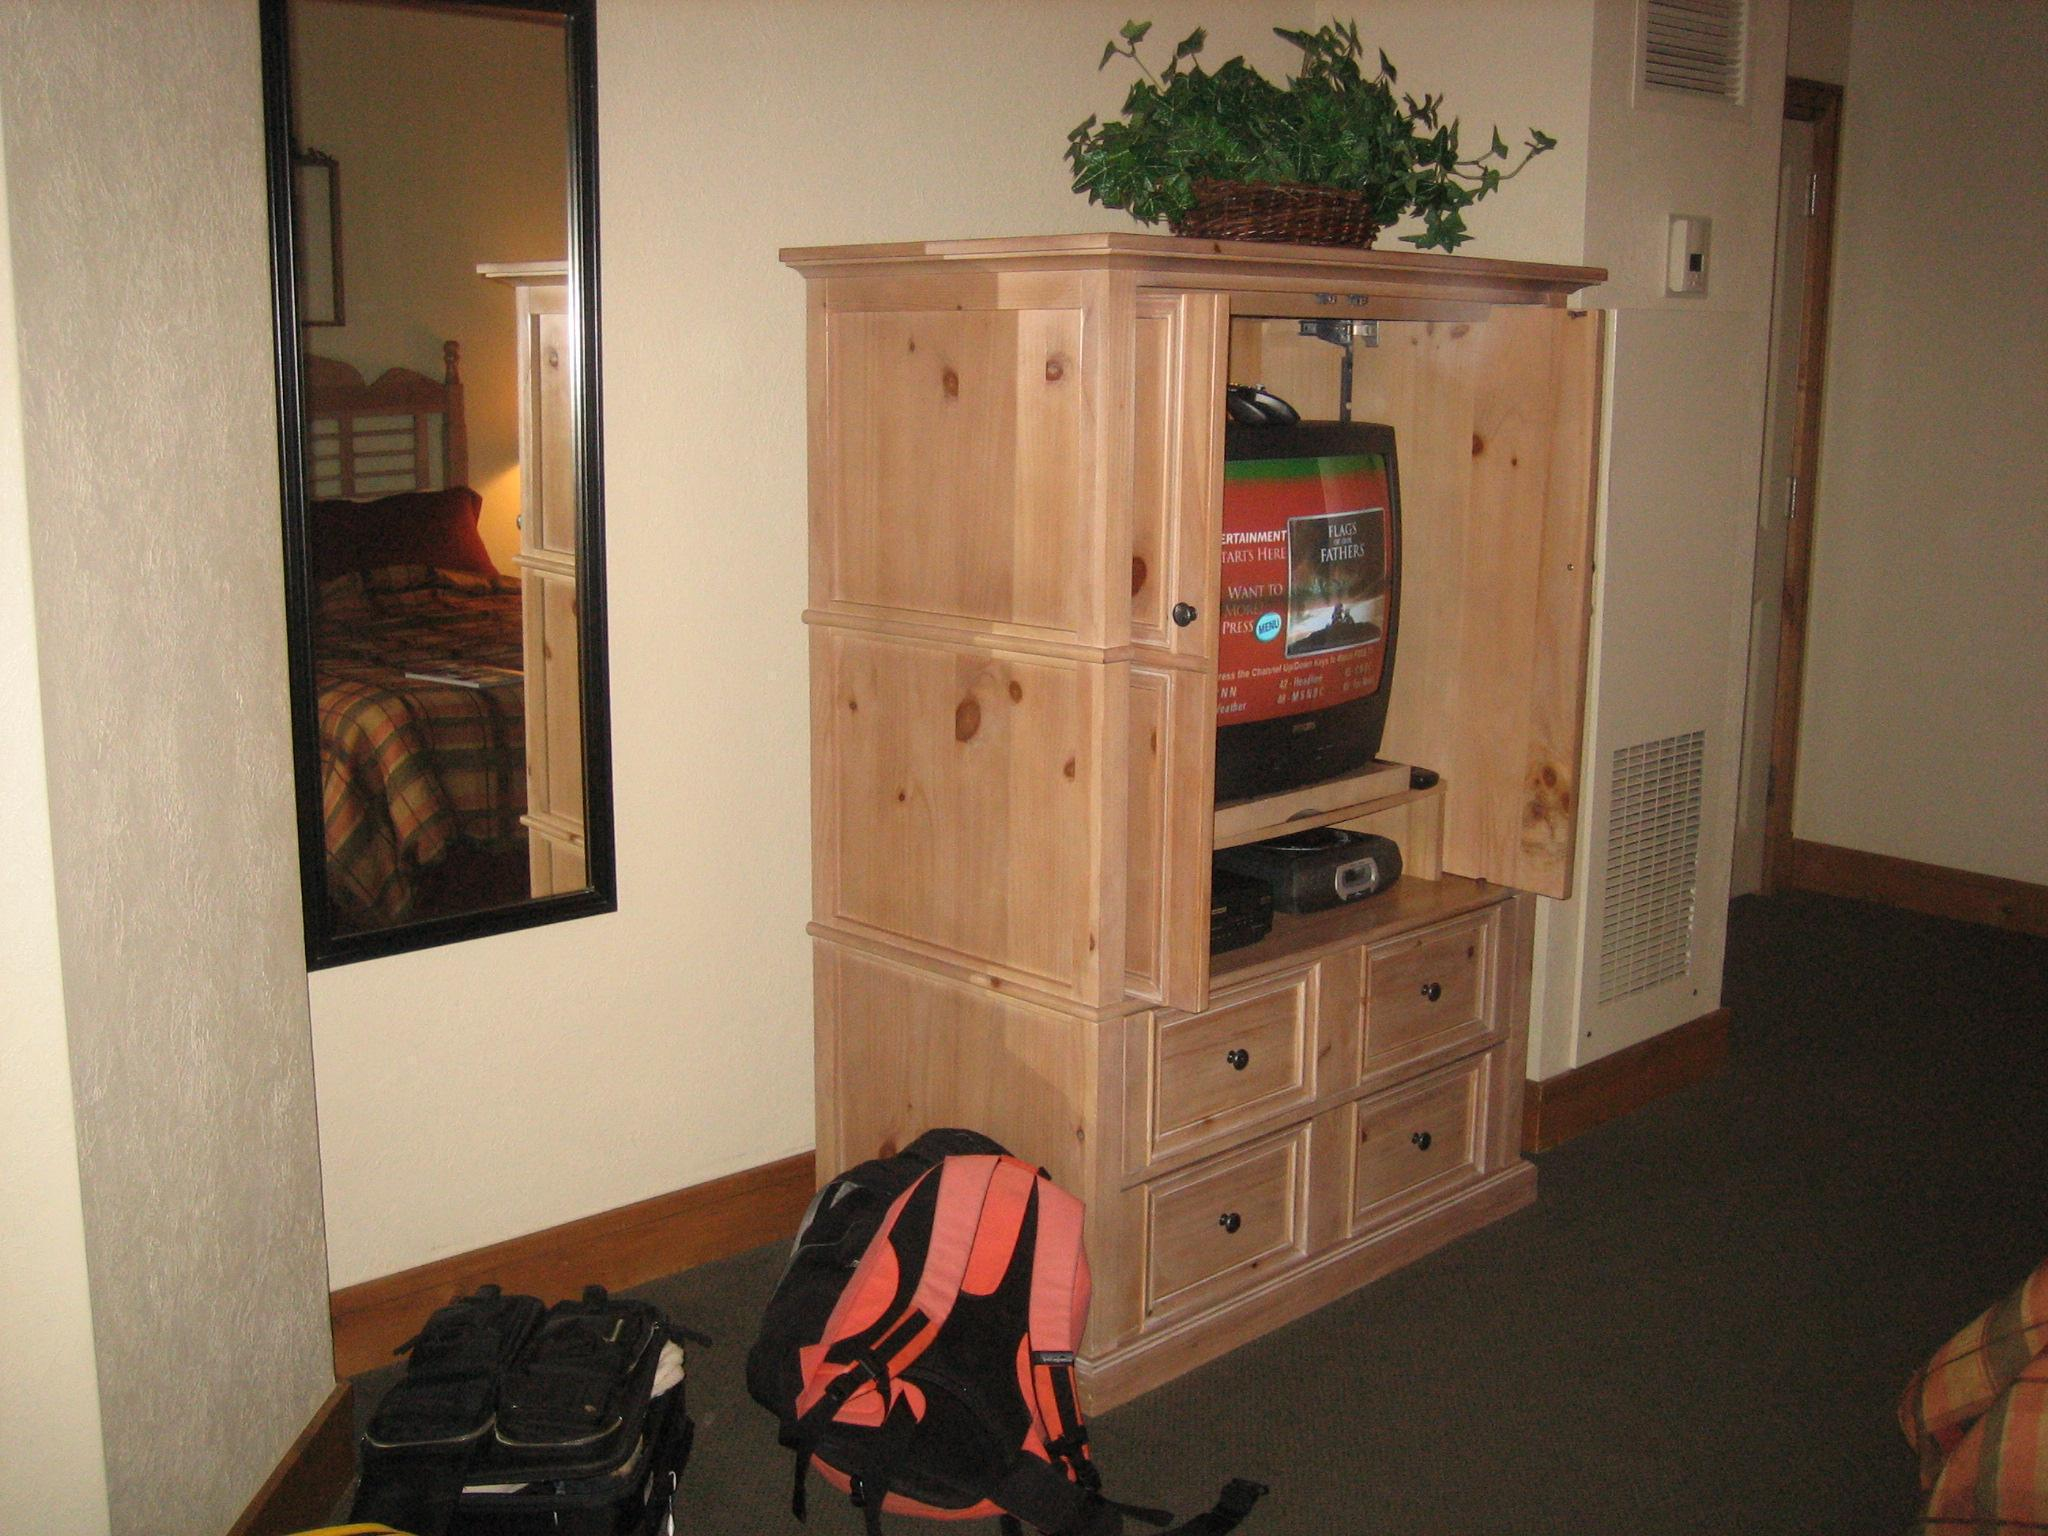Matera: (1113, 55, 1493, 281)
Otro Obstaculo: (747, 1154, 1127, 1509), (377, 1262, 703, 1530)
